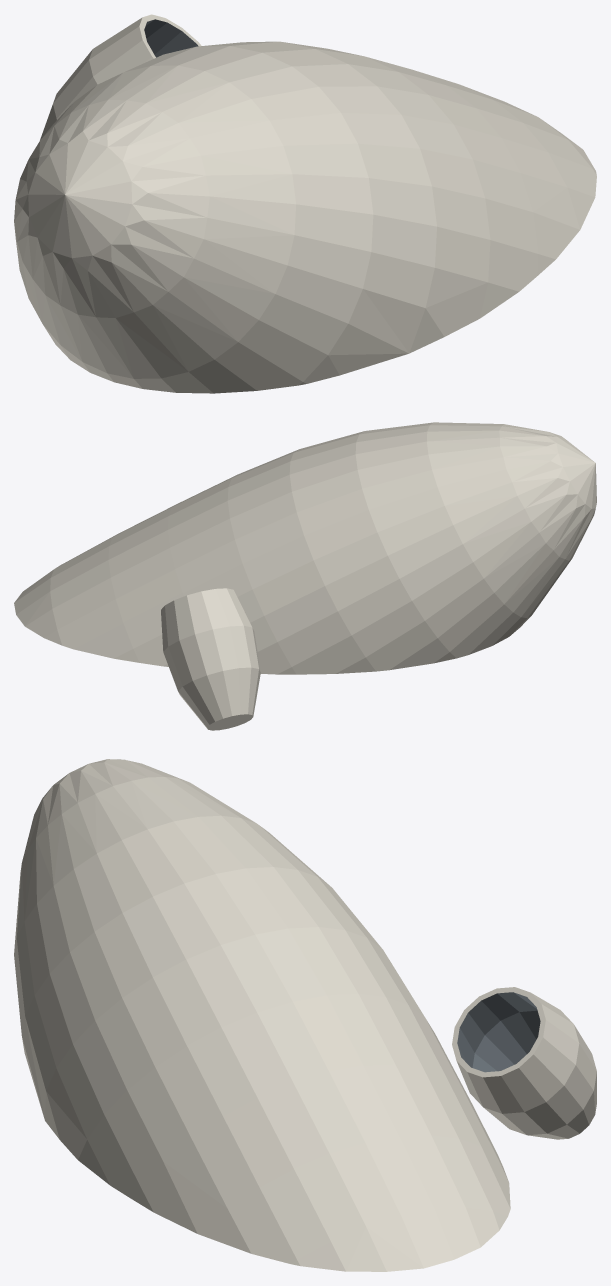
File: SM_TownCenter_01.fbx
3 renders of one model, top to bottom at view 1: azimuth 30°, elevation 25°; view 2: azimuth 150°, elevation 25°; view 3: azimuth 270°, elevation 25°, orthographic. The views are drawn at different scales.
Parts seen in each view (by area): view 1: SM_TownCenter_01; view 2: SM_TownCenter_01; view 3: SM_TownCenter_01.
Boxes of the visible parts, x1,y1,x2,y2 form: SM_TownCenter_01: (14, 14, 596, 393); SM_TownCenter_01: (14, 422, 596, 730); SM_TownCenter_01: (14, 759, 596, 1271).
Size of the model in its own units: 624 by 272 by 511.
